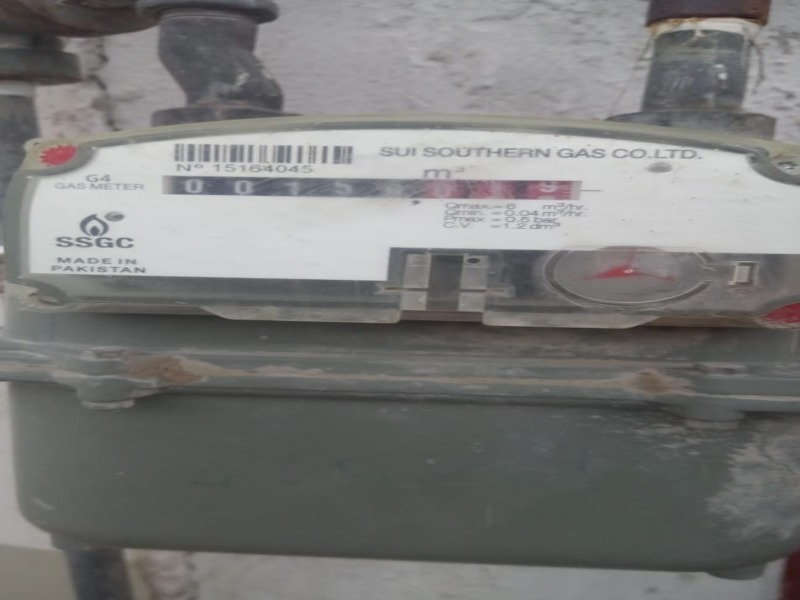ssgc: (156, 169, 583, 206)
